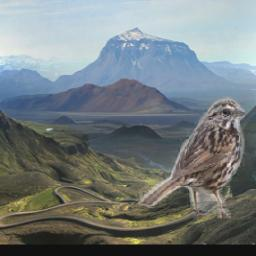Sparrow: (138, 96, 245, 219)
